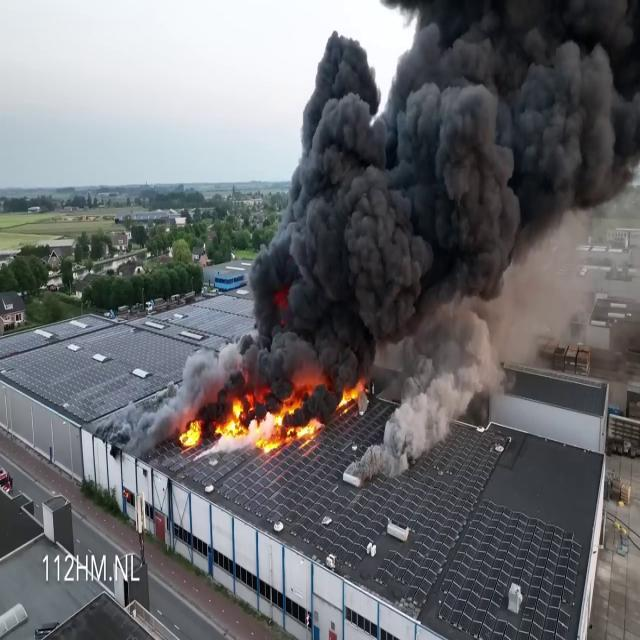Fire: (178, 386, 322, 454), (337, 378, 368, 413)
Smoke: (182, 1, 640, 430), (360, 302, 536, 490)
